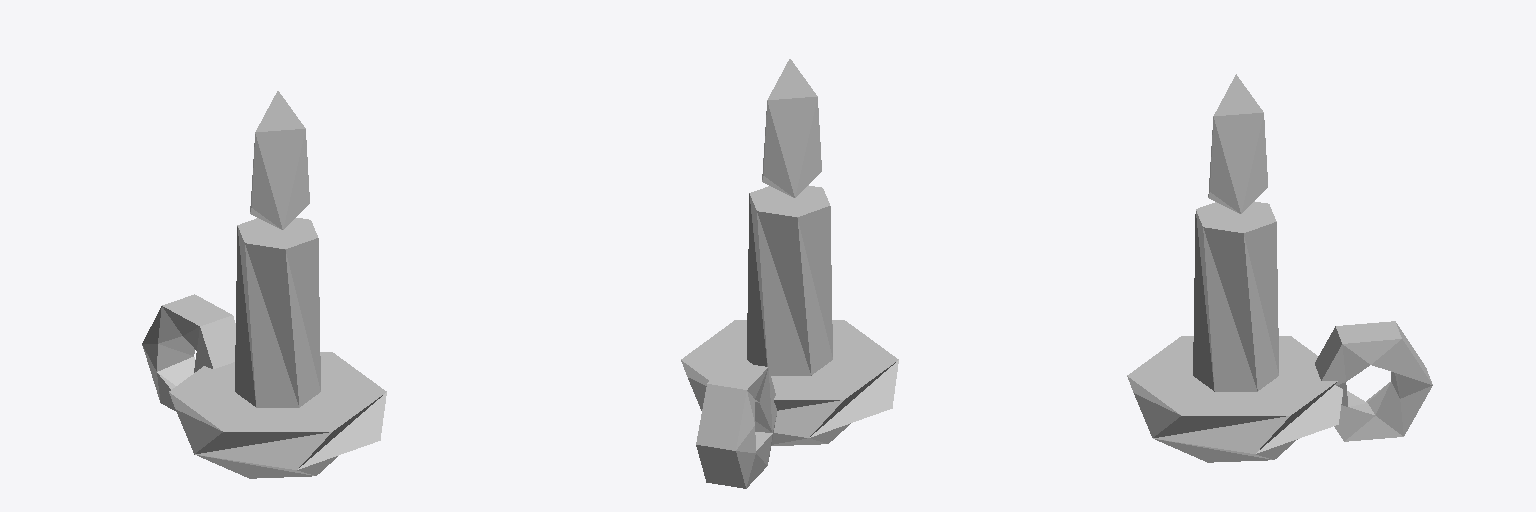
The model's file is Candle.obj.
3 renders of one model, left to right at view 1: azimuth 30°, elevation 25°; view 2: azimuth 150°, elevation 25°; view 3: azimuth 270°, elevation 25°, orthographic.
Visible parts, largest first — view 1: Candle; view 2: Candle; view 3: Candle.
Boxes of the visible parts, x1=… form: Candle: x1=142, y1=91, x2=386, y2=478; Candle: x1=681, y1=59, x2=898, y2=488; Candle: x1=1127, y1=74, x2=1432, y2=462.
Size of the model in its own units: 5.91 by 11.04 by 8.41.